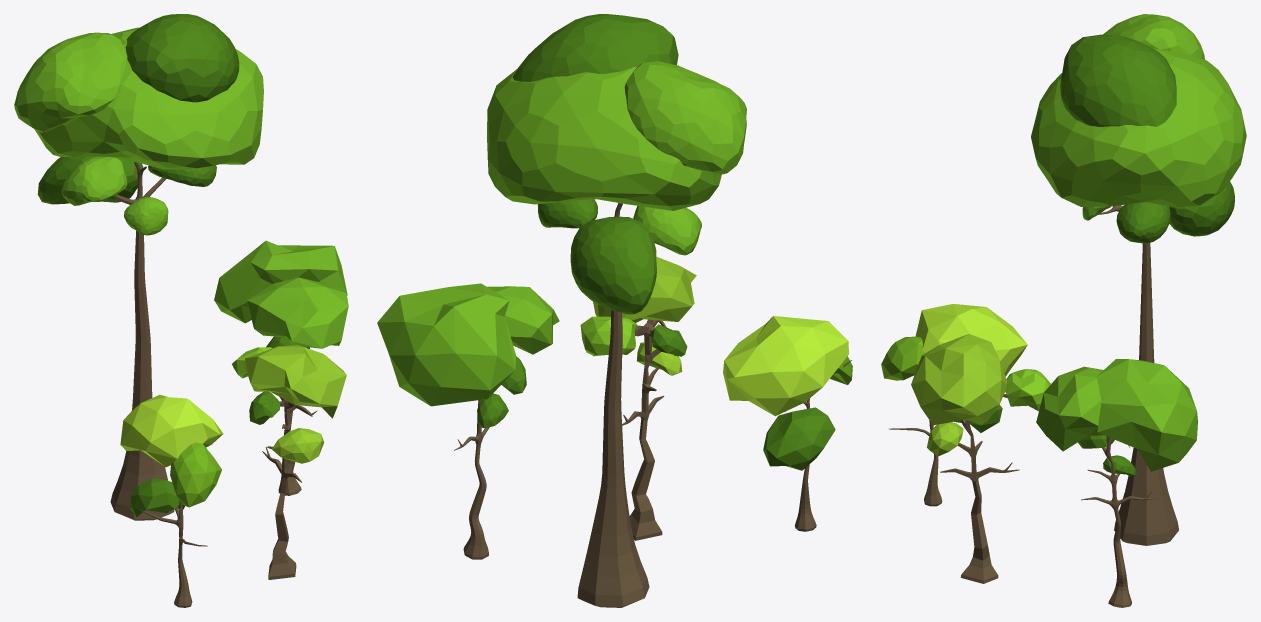
The model's file is forest-tree.glb.
The picture shows the model from 3 angles, left to right: view 1: azimuth 30°, elevation 25°; view 2: azimuth 150°, elevation 25°; view 3: azimuth 270°, elevation 25°; orthographic projection. The views are drawn at different scales.
Visible parts, largest first — view 1: Plane.049, LEAVE3.013, LEAVE3.039, LEAVE3.040; view 2: Plane.049, LEAVE3.013, LEAVE3.039, LEAVE3.040; view 3: Plane.049, LEAVE3.013, LEAVE3.040, LEAVE3.039.
Part boxes in pixels (box(x1,y1,x2,y2)): Plane.049: box(14, 14, 263, 520); LEAVE3.013: box(214, 240, 348, 495); LEAVE3.039: box(120, 394, 223, 607); LEAVE3.040: box(232, 345, 346, 579); Plane.049: box(487, 14, 746, 607); LEAVE3.013: box(377, 283, 559, 559); LEAVE3.039: box(723, 316, 852, 531); LEAVE3.040: box(580, 256, 696, 540); Plane.049: box(1031, 14, 1246, 545); LEAVE3.013: box(1036, 359, 1197, 607); LEAVE3.040: box(911, 334, 1050, 583); LEAVE3.039: box(881, 304, 1027, 506).
Bounding box in the file's own units: 38.15 × 58.43 × 37.31.
Materials: 2 (1 with a texture image).
